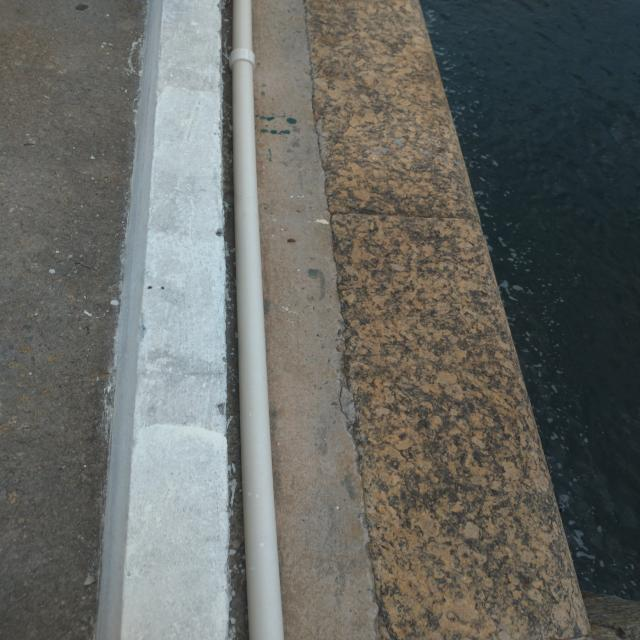gas: (225, 0, 293, 638)
